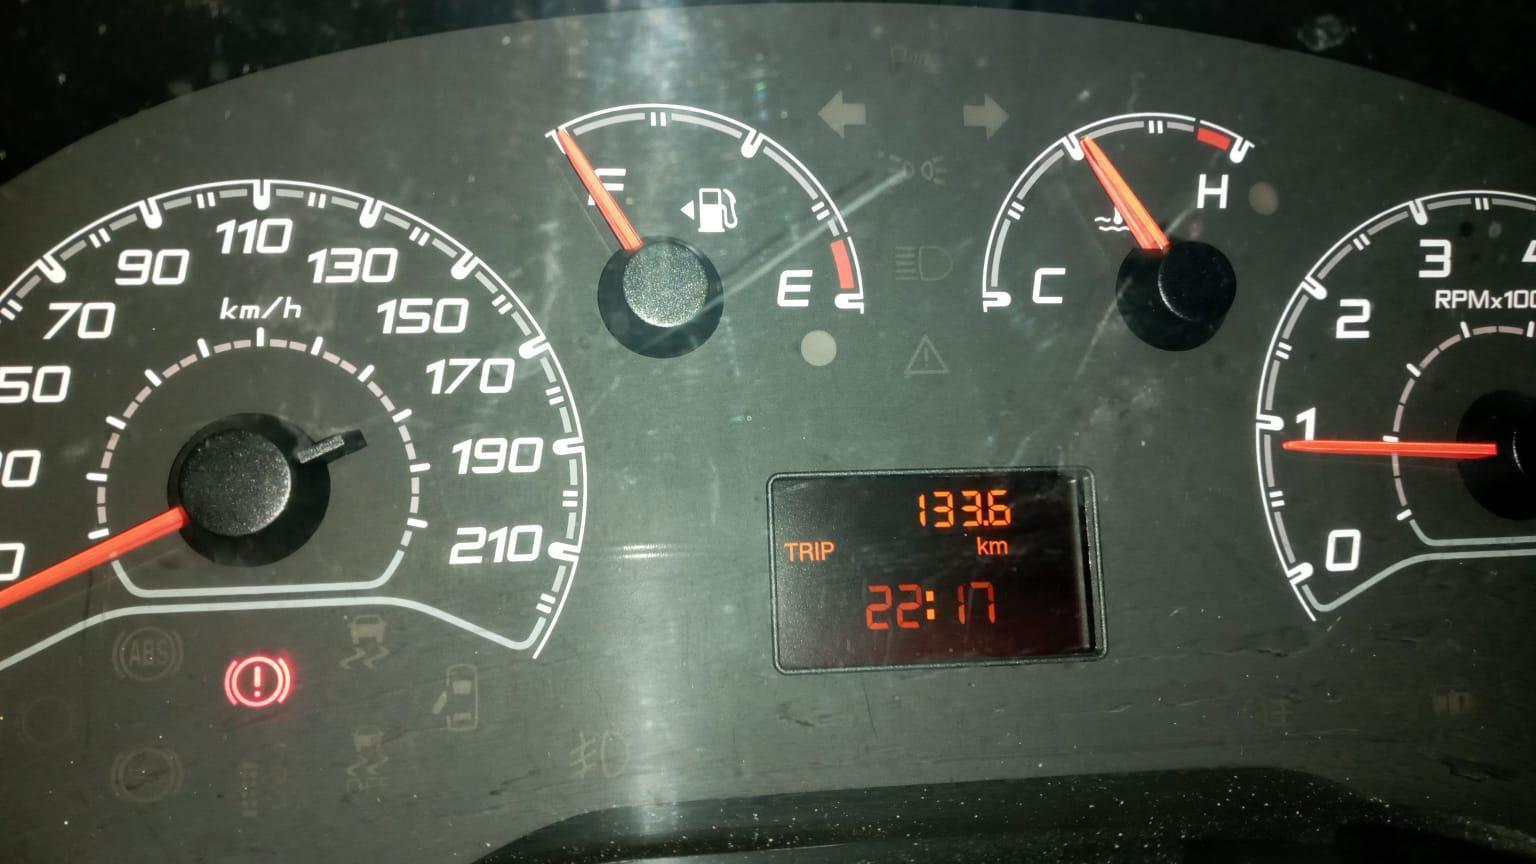,: (982, 519, 990, 526)
1: (955, 583, 966, 625), (917, 492, 927, 527)
2: (864, 583, 892, 630), (895, 583, 923, 629)
3: (932, 489, 954, 527), (960, 489, 982, 526)
6: (986, 488, 1011, 526)
7: (969, 581, 997, 625)
X: (924, 589, 936, 621), (796, 541, 814, 561), (988, 539, 1009, 556), (820, 540, 836, 561), (783, 541, 796, 563), (976, 535, 988, 556), (814, 540, 819, 561)
odometer: (765, 463, 1109, 676)
